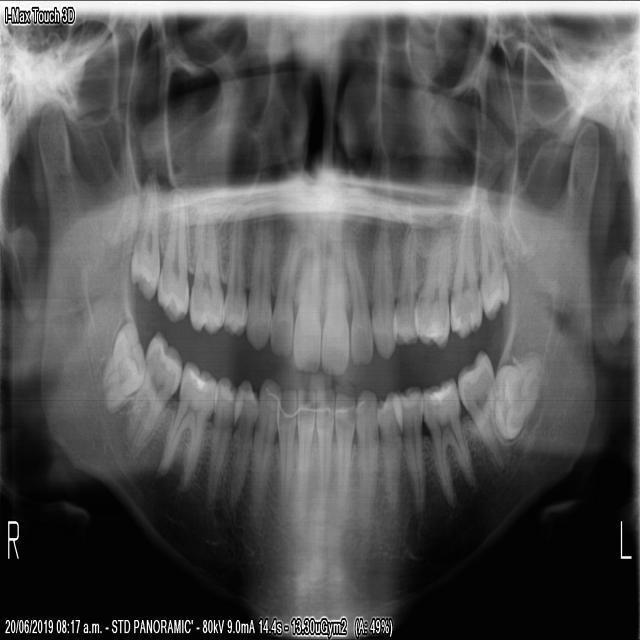LCU: (369, 206, 396, 361), (351, 384, 378, 530)
LID: (332, 388, 355, 520), (312, 382, 333, 519)
LIU: (317, 212, 348, 375), (341, 227, 372, 367)
LMD: (418, 370, 475, 503), (454, 343, 511, 473), (490, 348, 540, 441)
LMU: (409, 221, 450, 349), (475, 199, 509, 324), (447, 214, 481, 338)
LPMD: (388, 379, 422, 516), (372, 386, 402, 521)
LPMU: (387, 215, 416, 347)
RCD: (247, 370, 280, 520)
RCU: (240, 188, 271, 351), (218, 189, 247, 337)
RID: (272, 385, 294, 508), (293, 383, 313, 513)
RIU: (289, 226, 319, 374), (266, 224, 298, 358)
RMD: (146, 340, 211, 476), (121, 327, 181, 448), (97, 316, 144, 410)
RMU: (185, 199, 223, 335), (152, 182, 188, 325), (126, 166, 158, 300)
RPMD: (203, 371, 242, 507), (223, 372, 259, 510)
